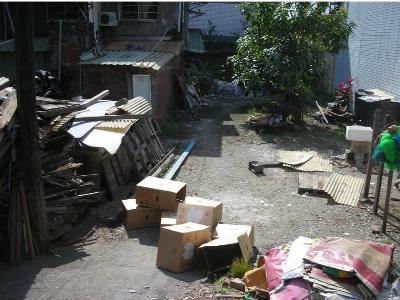box: (158, 223, 212, 276), (201, 232, 255, 274), (136, 175, 187, 209), (178, 196, 224, 229), (121, 198, 162, 229)
plastic_bag: (262, 231, 395, 300)
styrofoam: (346, 125, 374, 142)
